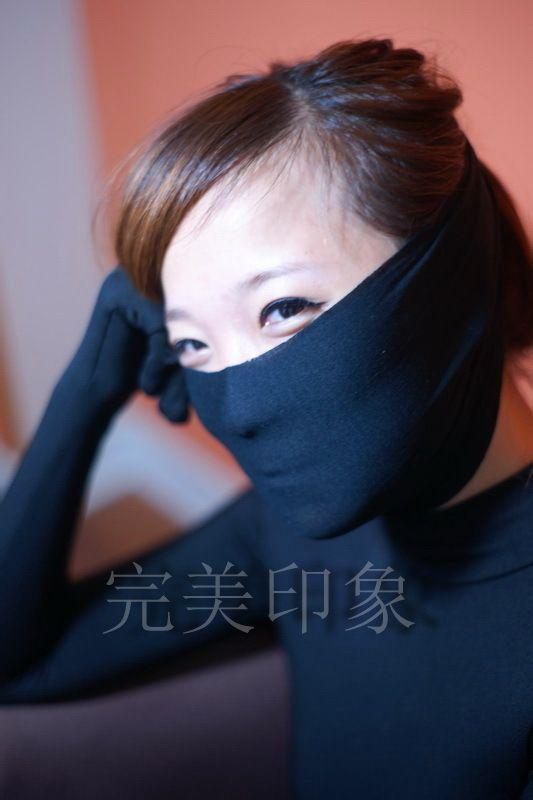OK: (172, 256, 432, 516)
